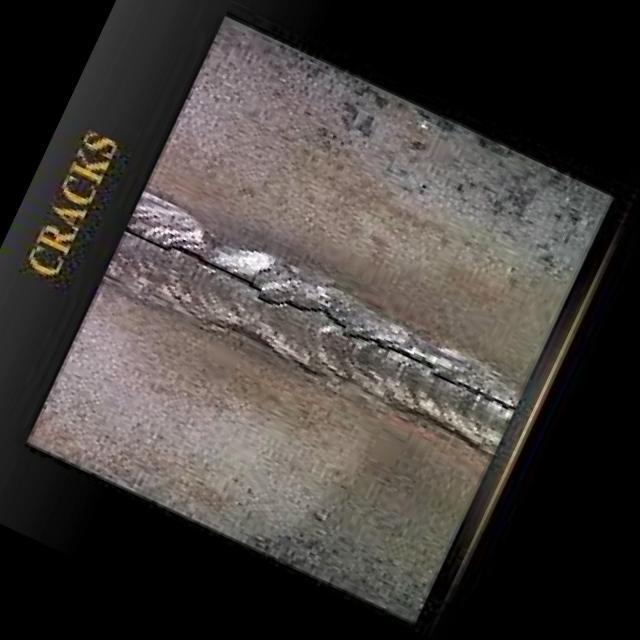defect: (120, 222, 519, 417)
